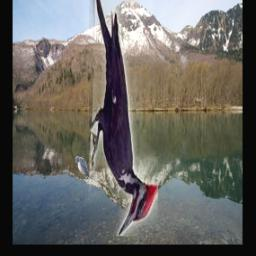Swallow: (76, 157, 93, 183)
Woodpecker: (90, 0, 159, 237)
